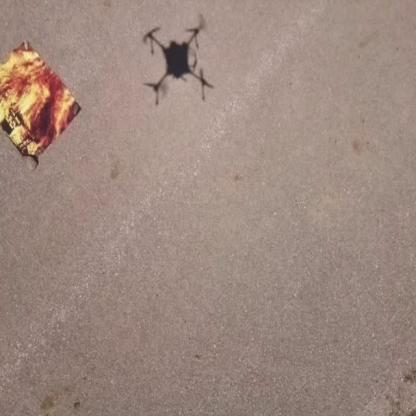fire-poster: (0, 38, 82, 169)
